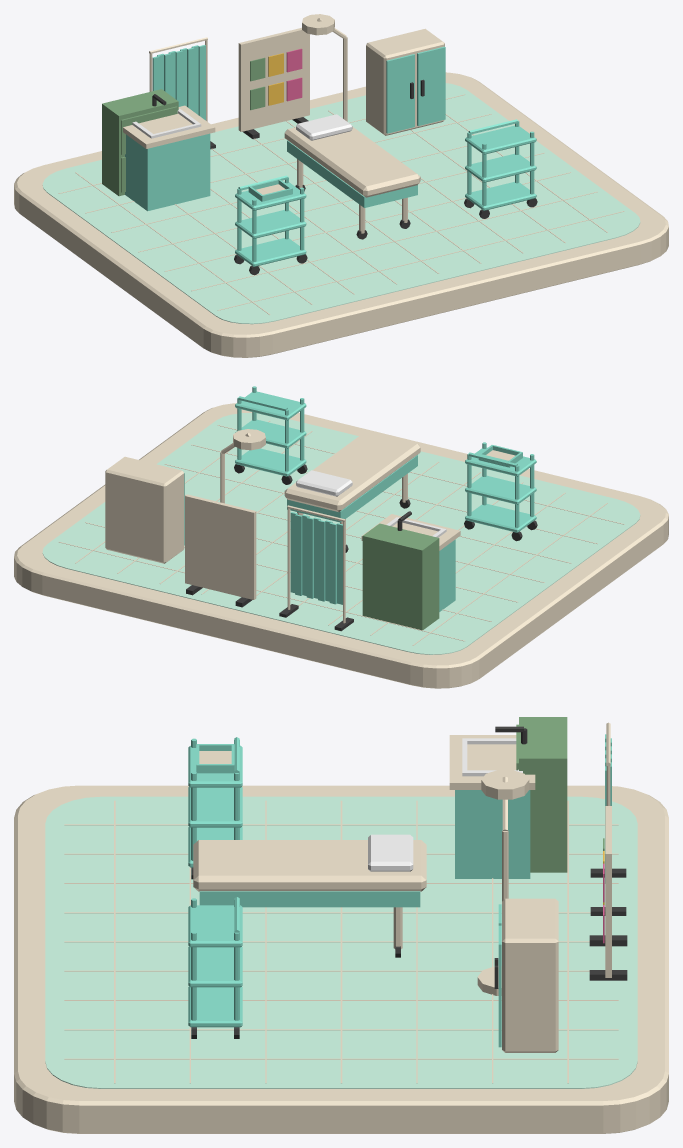
The picture shows the model from 3 angles, top to bottom: view 1: azimuth 30°, elevation 25°; view 2: azimuth 150°, elevation 25°; view 3: azimuth 270°, elevation 25°; orthographic projection. The views are drawn at different scales.
Parts seen in each view (by area): view 1: COM-02 Floor Surface, COM-01 Rounded Base Direct, Cabinet, Mattress, Panel, Cabinet.001, Equipment case, Door.001, Door, Counter, Tray.005, Tray.004 (+10 smaller); view 2: COM-02 Floor Surface, COM-01 Rounded Base Direct, Equipment case, Cabinet.001, Panel, Mattress, Tray.001, Tray, Tray.003, Tray.005, Cabinet, Base (+12 smaller); view 3: COM-02 Floor Surface, COM-01 Rounded Base Direct, Mattress, Equipment case, Cabinet.001, Cabinet, Counter, Base, Tray.005, Tray.003, Tray.004, Tray.001 (+13 smaller).
Part boxes in pixels (<box>): COM-02 Floor Surface: <box>42,83,640,324</box>; COM-01 Rounded Base Direct: <box>14,72,668,357</box>; Cabinet: <box>125,133,210,211</box>; Mattress: <box>284,127,420,197</box>; Panel: <box>238,27,309,131</box>; Cabinet.001: <box>102,89,178,196</box>; Equipment case: <box>366,28,444,135</box>; Door.001: <box>417,46,445,126</box>; Door: <box>386,54,414,133</box>; Counter: <box>123,105,215,148</box>; Tray.005: <box>465,125,536,154</box>; Tray.004: <box>465,153,536,182</box>; COM-02 Floor Surface: <box>42,413,640,654</box>; COM-01 Rounded Base Direct: <box>14,403,668,688</box>; Equipment case: <box>105,456,184,563</box>; Cabinet.001: <box>362,523,439,630</box>; Panel: <box>185,494,256,599</box>; Mattress: <box>284,431,420,511</box>; Tray.001: <box>465,475,536,504</box>; Tray: <box>465,504,536,532</box>; Tray.003: <box>235,448,306,476</box>; Tray.005: <box>235,391,306,420</box>; Cabinet: <box>439,539,455,611</box>; Base: <box>287,458,417,522</box>; COM-02 Floor Surface: <box>45,796,637,1088</box>; COM-01 Rounded Base Direct: <box>14,785,668,1133</box>; Mattress: <box>193,840,426,891</box>; Equipment case: <box>502,898,558,1052</box>; Cabinet.001: <box>516,717,567,872</box>; Cabinet: <box>455,790,530,878</box>; Counter: <box>449,735,535,789</box>; Base: <box>199,896,420,907</box>; Tray.005: <box>188,905,242,947</box>; Tray.003: <box>188,986,242,1027</box>; Tray.004: <box>188,946,242,987</box>; Tray.001: <box>188,787,242,827</box>.
Size of the model in its own units: 6 by 1.96 by 5.2.
1 material, 1 textured.
